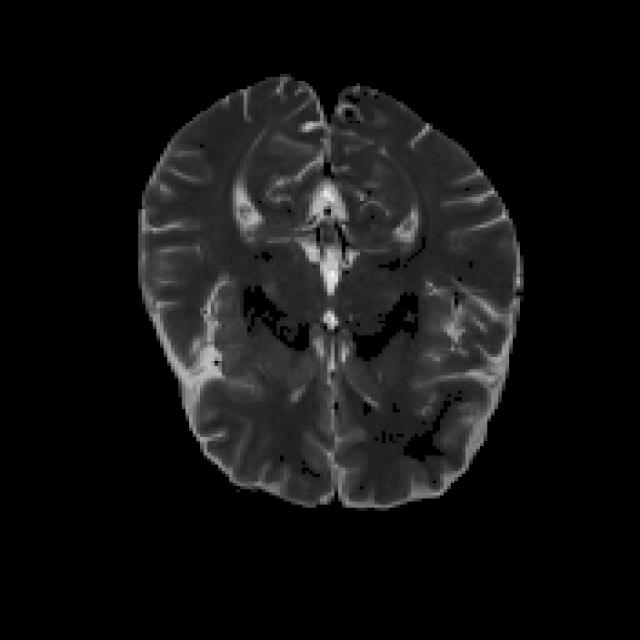CONTROL: (134, 71, 524, 511)
